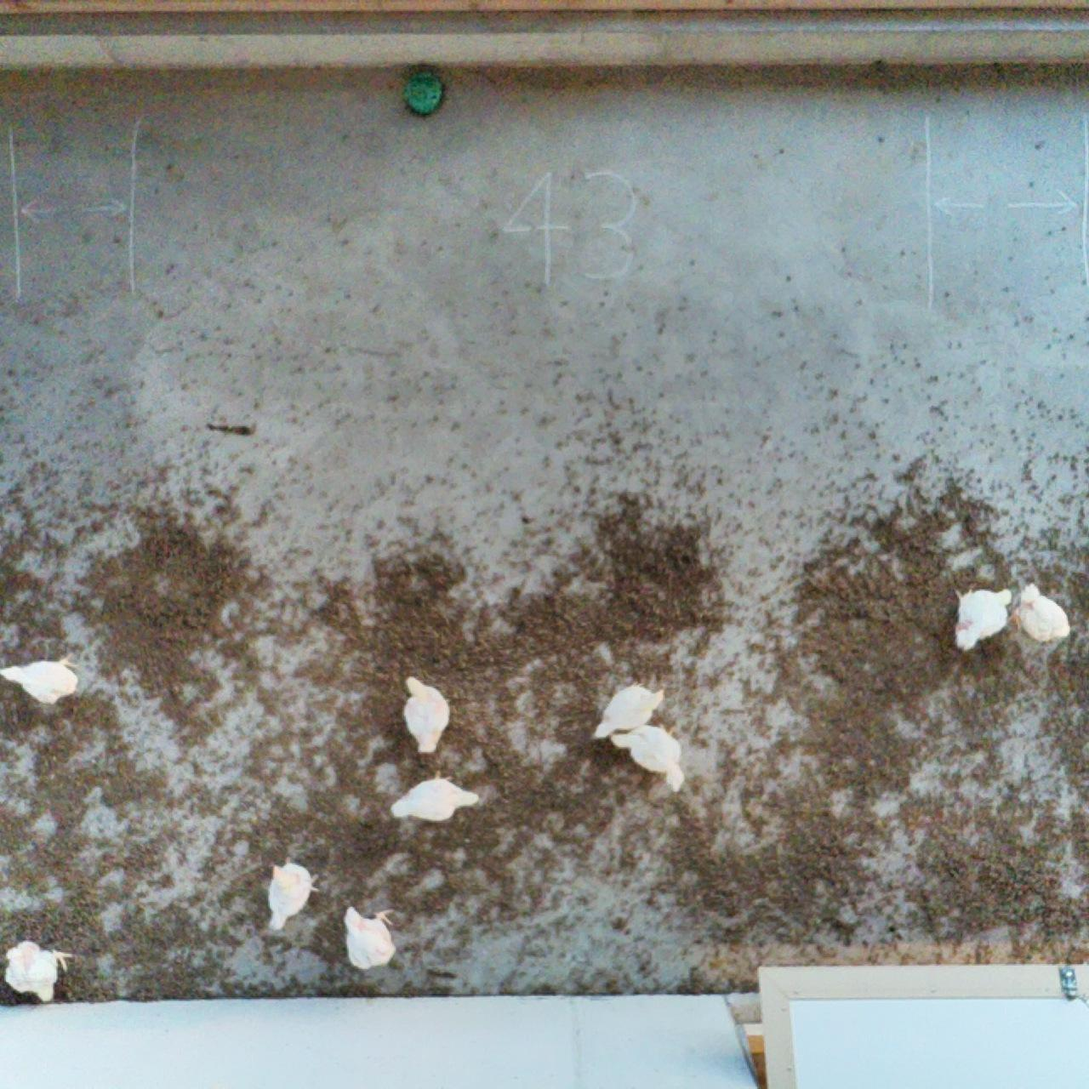chicken: (608, 723, 686, 795), (388, 768, 481, 825), (0, 938, 76, 1004), (0, 650, 82, 710), (264, 853, 323, 933), (951, 579, 1015, 652), (592, 680, 666, 740), (340, 900, 401, 971), (400, 673, 452, 756), (1009, 580, 1074, 643)
